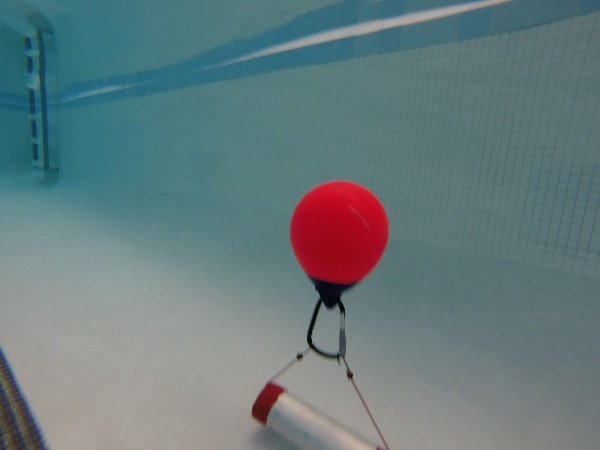buoy_red: (288, 177, 387, 307)
